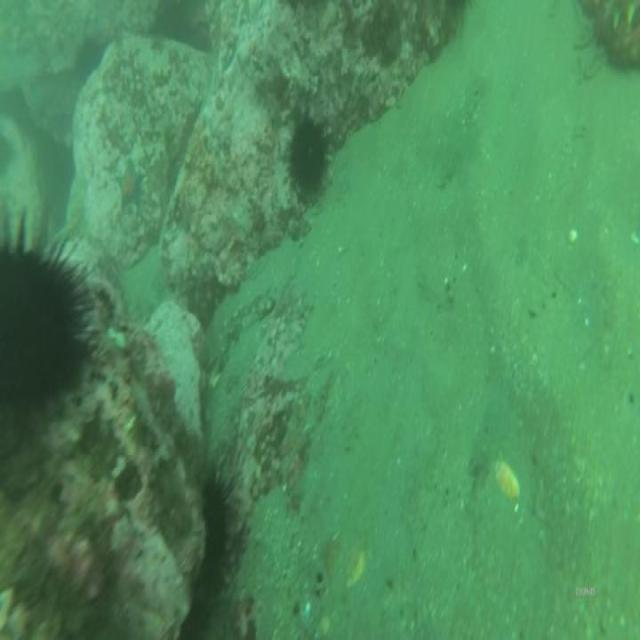echinus: (1, 204, 100, 430), (197, 466, 234, 607), (285, 111, 328, 202)
starfish: (113, 158, 147, 215)
